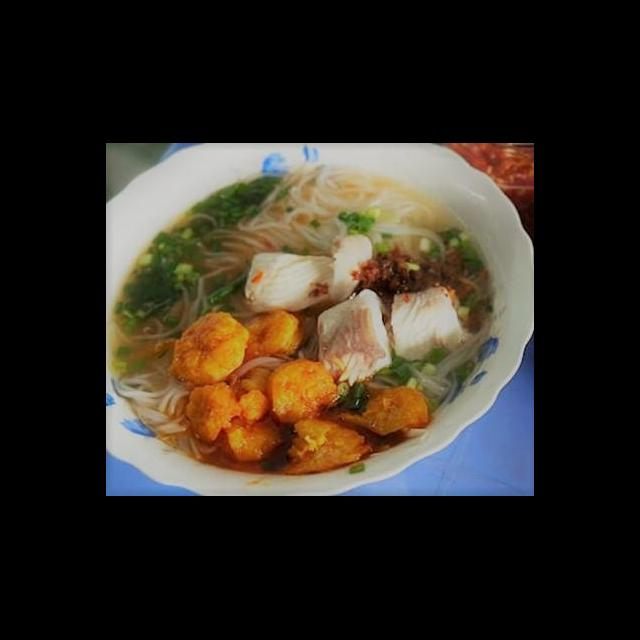bun: (401, 165, 505, 449), (203, 388, 318, 461), (182, 145, 277, 210)
bun ca: (114, 166, 521, 491)
ca: (320, 254, 434, 365), (230, 312, 360, 382), (260, 375, 367, 443)
tom: (233, 192, 334, 263), (190, 273, 283, 346), (142, 234, 238, 298), (129, 286, 204, 366), (172, 333, 245, 414), (264, 246, 338, 308), (168, 206, 250, 255)
